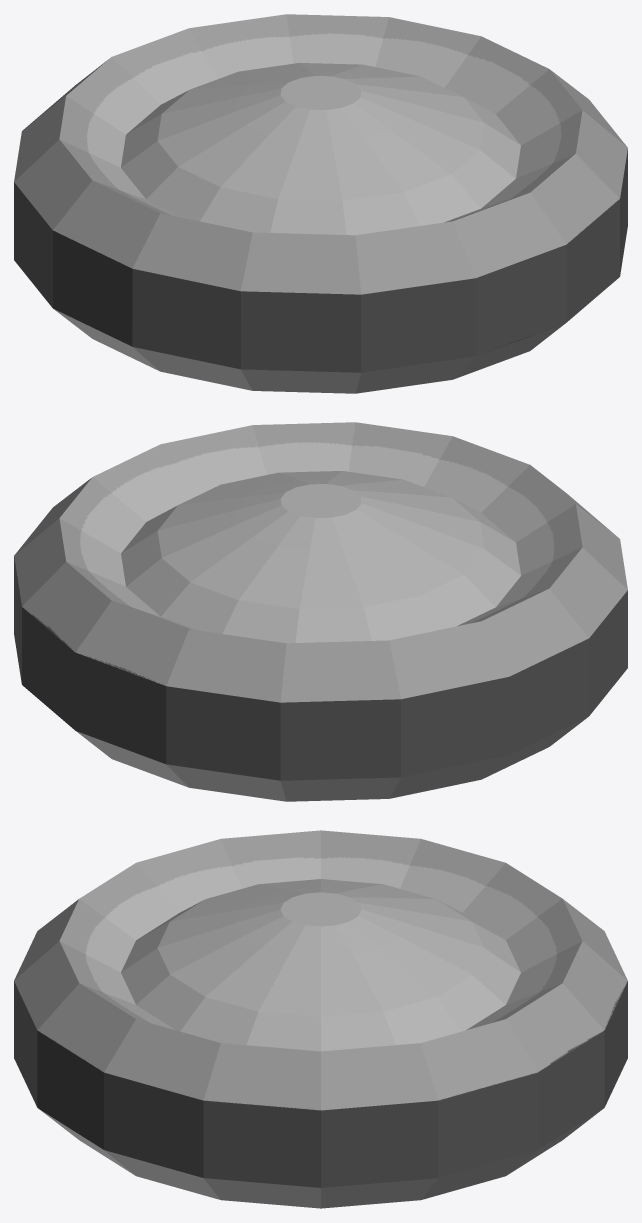
File: wheel.obj
3 renders of one model, top to bottom at view 1: azimuth 30°, elevation 25°; view 2: azimuth 150°, elevation 25°; view 3: azimuth 270°, elevation 25°, orthographic.
Visible parts, largest first — view 1: wheel_Cylinder.004; view 2: wheel_Cylinder.004; view 3: wheel_Cylinder.004.
Boxes of the visible parts, bbox=[...] form: wheel_Cylinder.004: bbox=[14, 14, 627, 393]; wheel_Cylinder.004: bbox=[14, 422, 627, 801]; wheel_Cylinder.004: bbox=[14, 830, 627, 1208].
Bounding box in the file's own units: 0.8215 × 0.325 × 0.8215.
